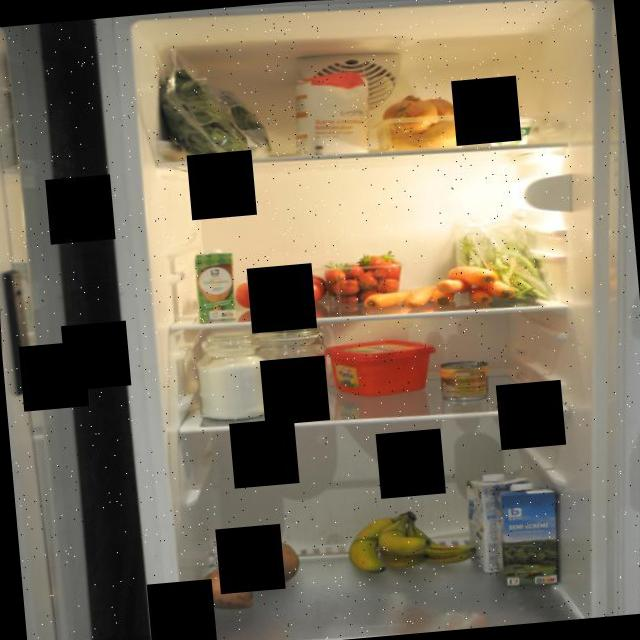Cebolla: (364, 88, 466, 155)
Leche: (458, 466, 540, 578), (490, 476, 568, 592)
Mantequilla: (318, 331, 439, 403)
Plátano: (342, 502, 480, 580)
Tomate: (231, 262, 328, 315)
Zanahoria: (426, 260, 518, 312), (361, 280, 434, 314)
